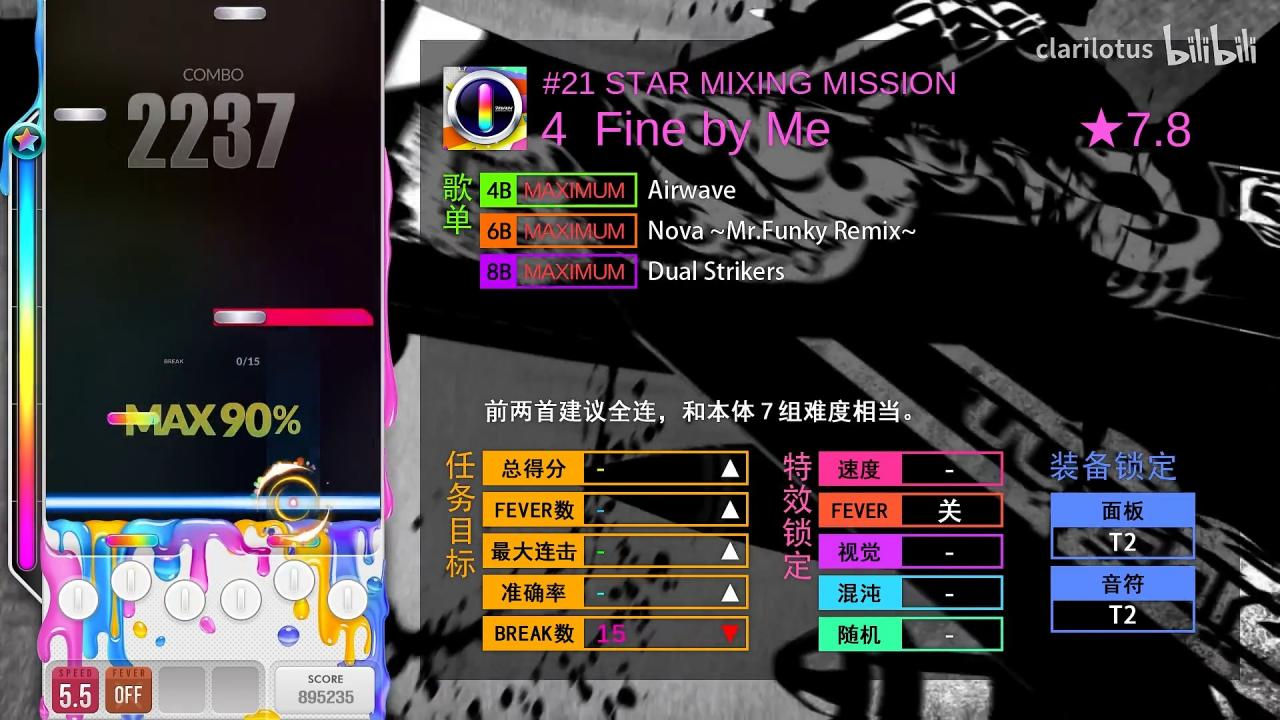note: (213, 310, 267, 324), (214, 6, 266, 20), (54, 108, 106, 121), (108, 413, 160, 426)
xnote: (213, 308, 373, 326)
